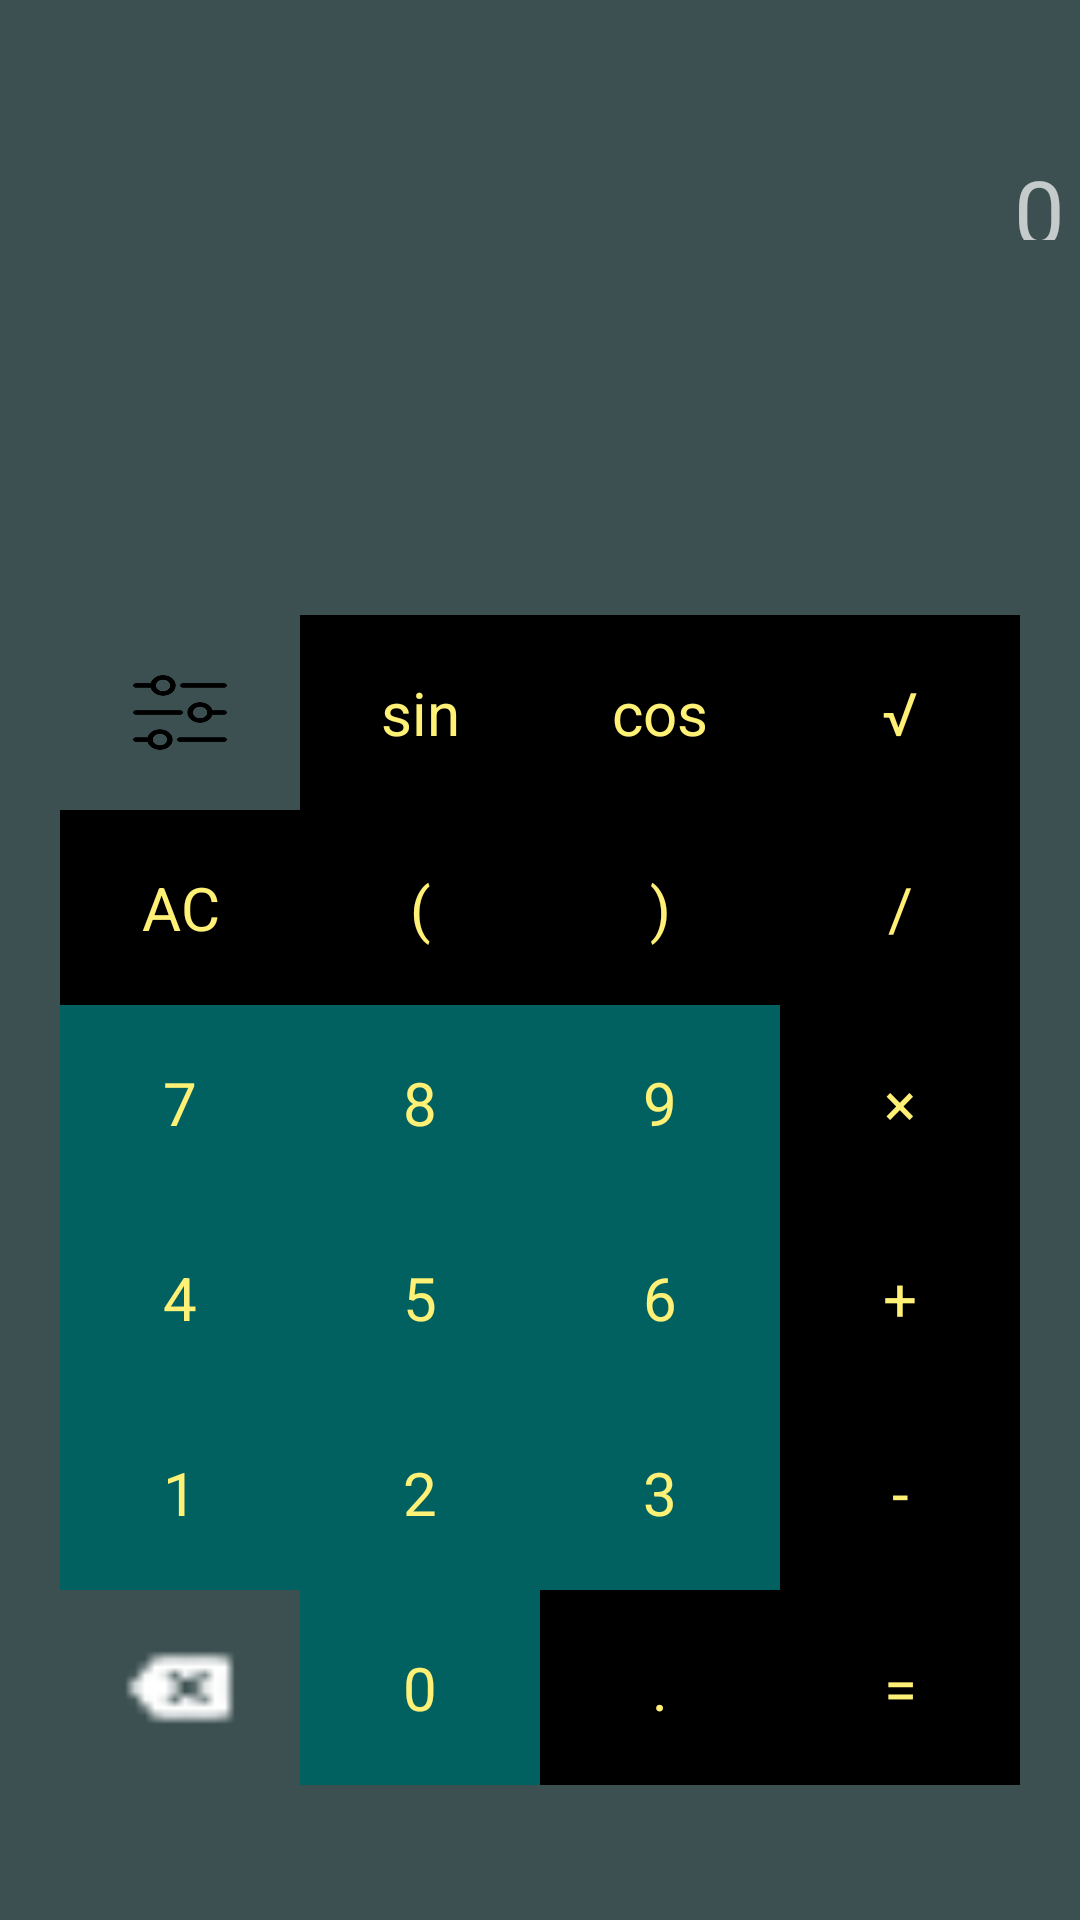

Icon bounding boxes for this 1080x1920 phone screenshot, format bbox=(x1, y1, x2, y2):
backspace: bbox=(127, 1652, 234, 1723)
settings: bbox=(133, 675, 227, 750)
